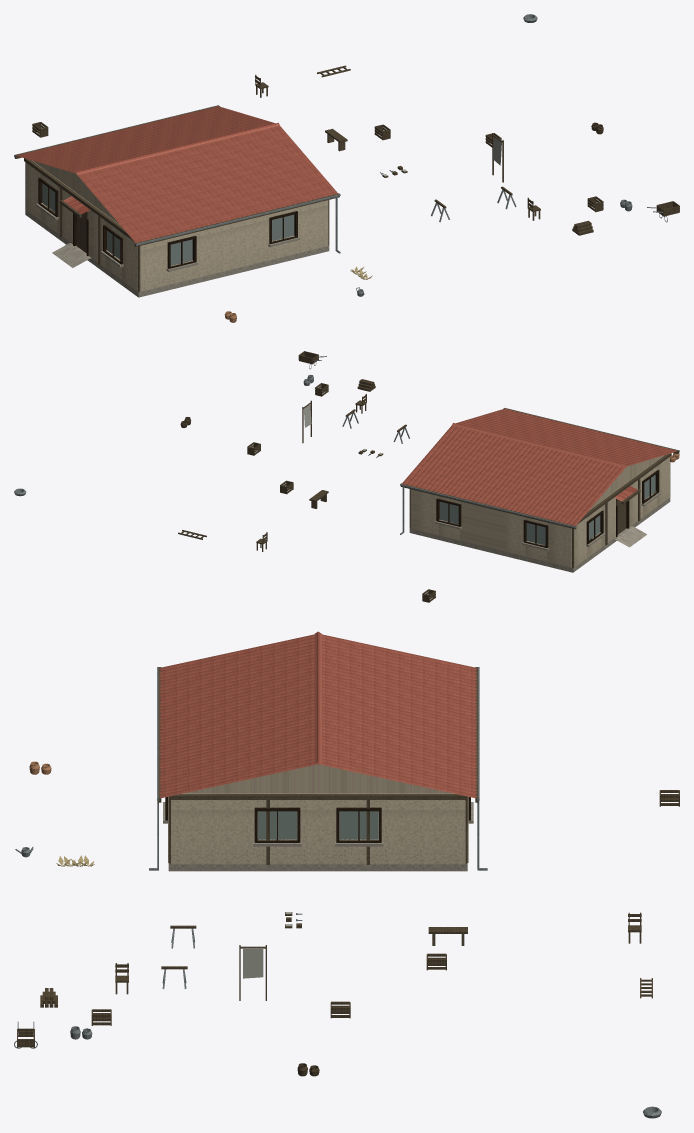
The picture shows the model from 3 angles, top to bottom: view 1: azimuth 30°, elevation 25°; view 2: azimuth 150°, elevation 25°; view 3: azimuth 270°, elevation 25°; orthographic projection. The views are drawn at different scales.
Parts seen in each view (by area): view 1: H06_TELHAS, H06_LATERAIS, H06_FACHADA, H06_FUNDACAO, H06_VIDROS_RECUADOS, H06_CAIXILHOS, H06_BEIRAIS, H06_OITOES, H06_CUMEEIRA, H06_CALHA, H06_VIGA_ESTRUTURAL, H06_RAMPA; view 2: H06_TELHAS, H06_LATERAIS, H06_FACHADA, H06_FUNDACAO, H06_VIDROS_RECUADOS, H06_CAIXILHOS, H06_BEIRAIS, H06_OITOES, H06_CUMEEIRA, H06_CALHA, H06_VIGA_ESTRUTURAL; view 3: H06_TELHAS, H06_FUNDOS, H06_OITOES, H06_FUNDACAO, H06_VIDROS_RECUADOS, H06_VIGA_ESTRUTURAL, H06_CAIXILHOS, H06_CUMEEIRA, H06_BEIRAIS.
Boxes of the visible parts, box(x1,y1,x2,y2) form: H06_TELHAS: box(17, 106, 337, 242); H06_LATERAIS: box(140, 200, 328, 291); H06_FACHADA: box(25, 160, 137, 291); H06_FUNDACAO: box(25, 209, 329, 297); H06_VIDROS_RECUADOS: box(42, 183, 294, 265); H06_CAIXILHOS: box(38, 177, 297, 268); H06_BEIRAIS: box(14, 105, 339, 246); H06_OITOES: box(33, 161, 118, 223); H06_CUMEEIRA: box(75, 122, 279, 174); H06_CALHA: box(14, 105, 340, 245); H06_VIGA_ESTRUTURAL: box(24, 158, 134, 241); H06_RAMPA: box(52, 243, 89, 267); H06_TELHAS: box(402, 408, 676, 525); H06_LATERAIS: box(410, 489, 571, 567); H06_FACHADA: box(574, 456, 669, 567); H06_FUNDACAO: box(409, 497, 670, 572); H06_VIDROS_RECUADOS: box(439, 475, 655, 545); H06_CAIXILHOS: box(436, 470, 659, 548); H06_BEIRAIS: box(400, 408, 679, 529); H06_OITOES: box(590, 455, 663, 509); H06_CUMEEIRA: box(452, 423, 626, 467); H06_CALHA: box(400, 408, 679, 528); H06_VIGA_ESTRUTURAL: box(577, 453, 671, 524); H06_TELHAS: box(159, 634, 476, 797); H06_FUNDOS: box(171, 793, 465, 864); H06_OITOES: box(183, 764, 452, 793); H06_FUNDACAO: box(168, 811, 467, 871); H06_VIDROS_RECUADOS: box(258, 811, 378, 839); H06_VIGA_ESTRUTURAL: box(171, 794, 465, 799); H06_CAIXILHOS: box(165, 797, 470, 842); H06_CUMEEIRA: box(314, 631, 321, 763); H06_BEIRAIS: box(158, 667, 478, 802).
Bounding box in the file's own units: 31.45 × 4.28 × 22.86.
12 materials, 8 textured.
